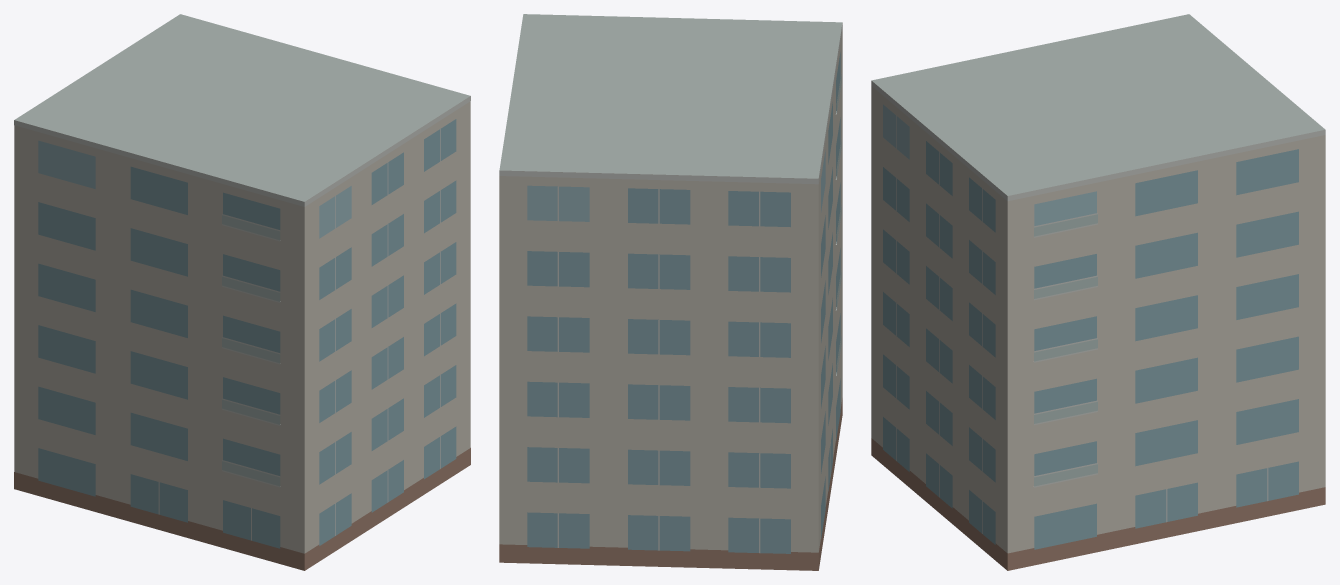
The model's file is survey-upis-32725058.glb.
3 renders of one model, left to right at view 1: azimuth 30°, elevation 25°; view 2: azimuth 150°, elevation 25°; view 3: azimuth 270°, elevation 25°, orthographic. The views are drawn at different scales.
Parts seen in each view (by area): view 1: survey-upis-32725058.tmp; view 2: survey-upis-32725058.tmp; view 3: survey-upis-32725058.tmp.
Boxes of the visible parts, box(x1,y1,x2,y2) form: survey-upis-32725058.tmp: box(14, 14, 470, 570); survey-upis-32725058.tmp: box(499, 14, 842, 570); survey-upis-32725058.tmp: box(871, 14, 1325, 570).
Bounding box in the file's own units: 18.13 × 17.4 × 19.12.
